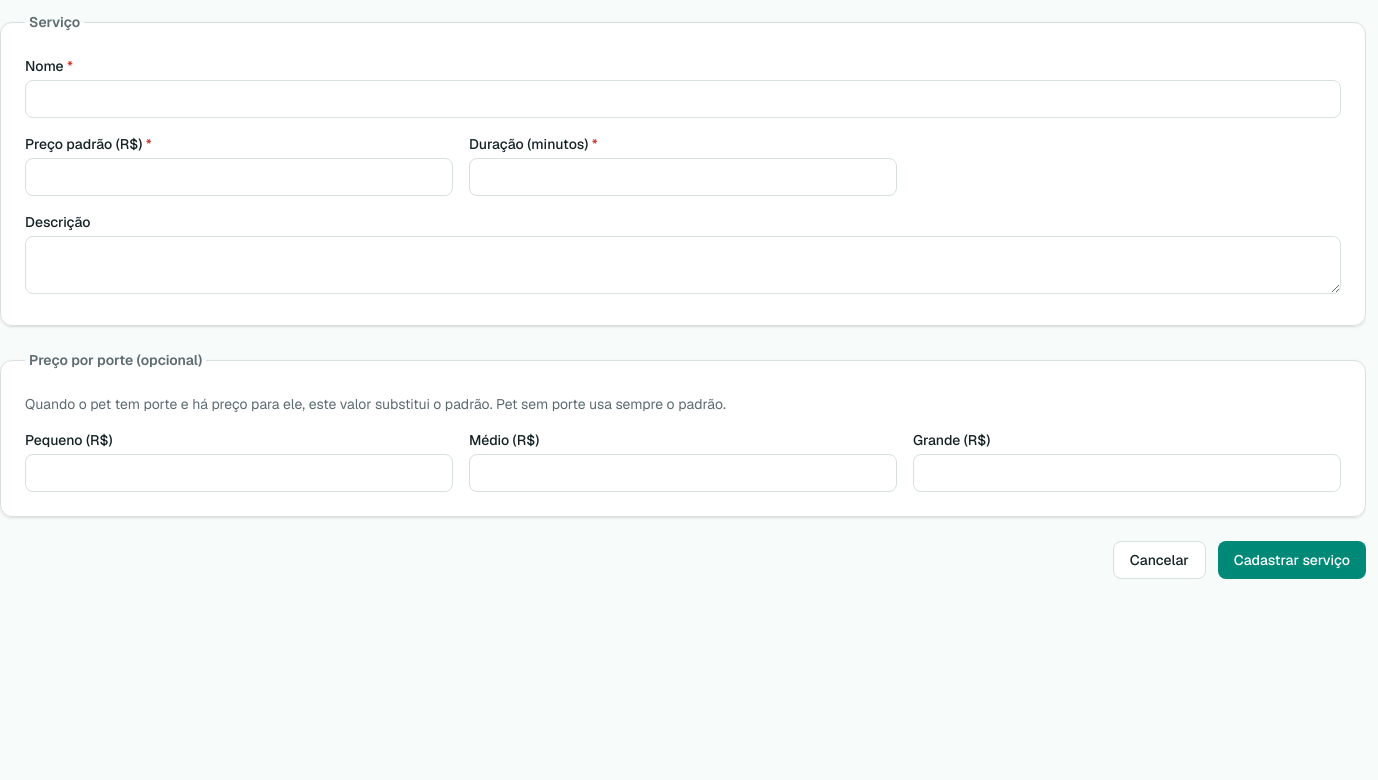
Test case: ServicoForm › validaNomeObrigatorio
Click the button "Cadastrar serviço" at (1292, 560), box [1218, 541, 1366, 579]
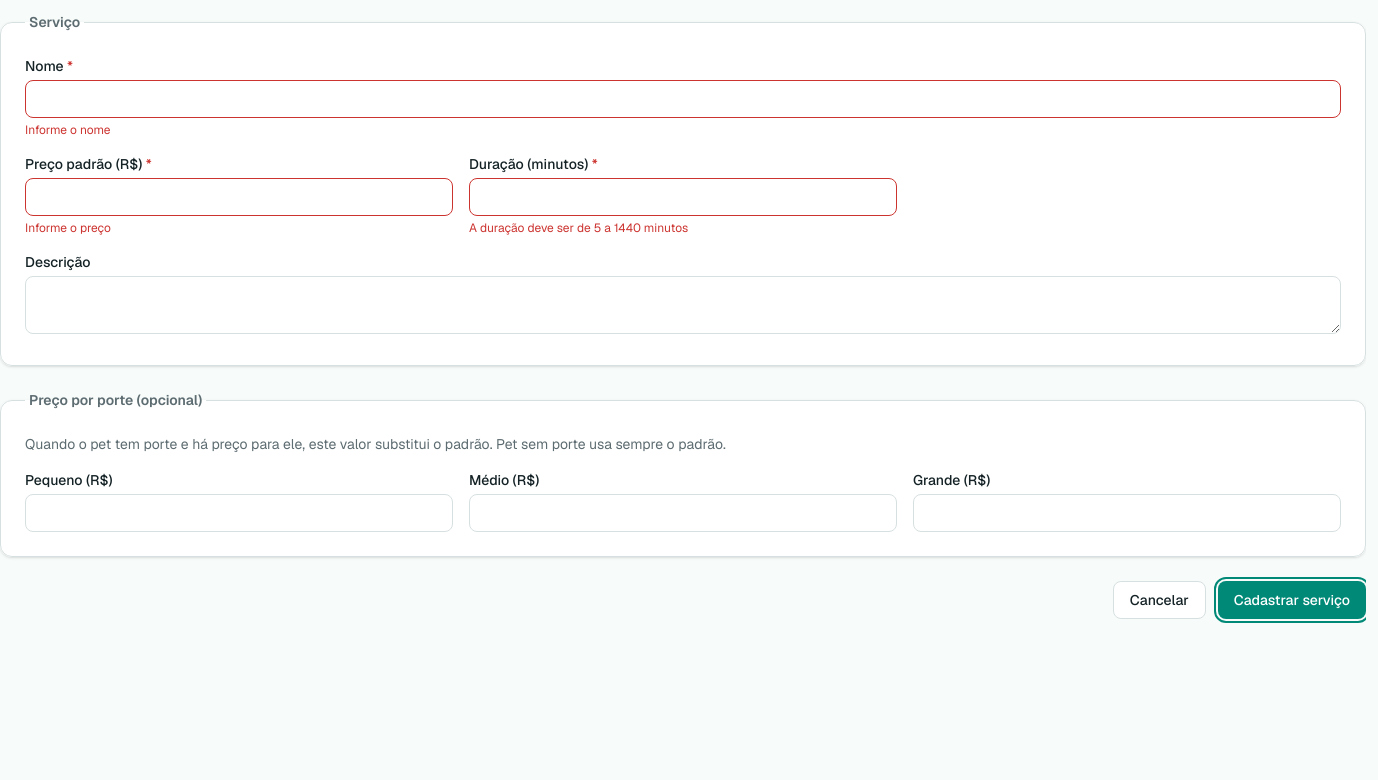
Now the text "Informe o nome" is shown, box [25, 122, 111, 138]
